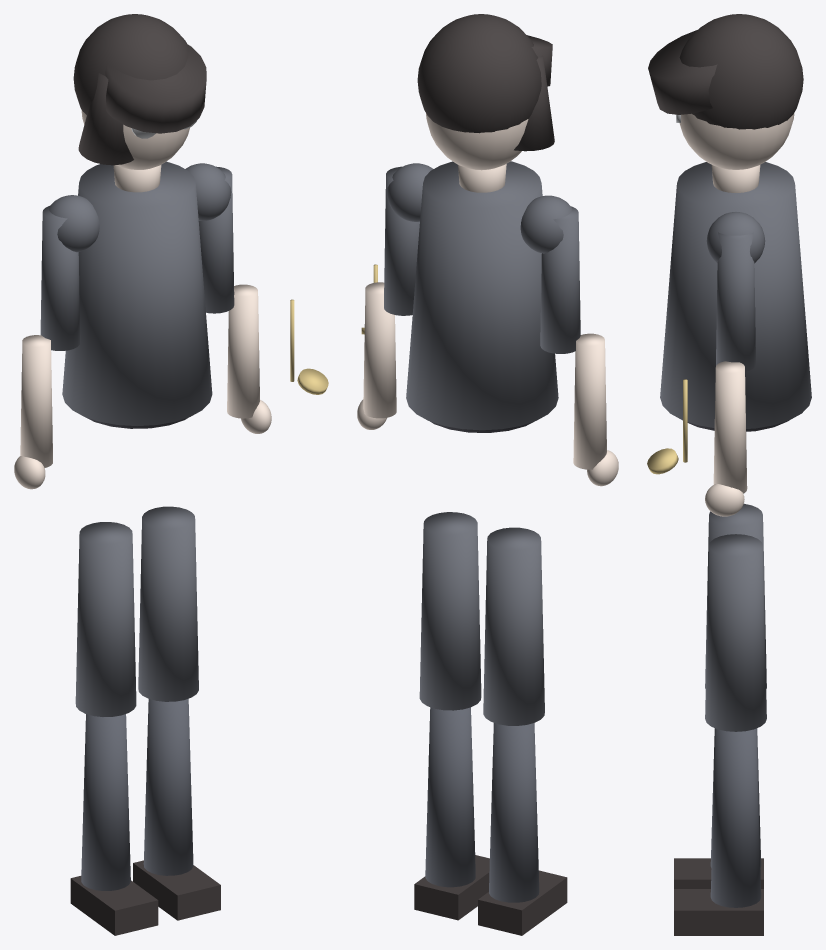
File: wen_heng.glb
3 renders of one model, left to right at view 1: azimuth 30°, elevation 25°; view 2: azimuth 150°, elevation 25°; view 3: azimuth 270°, elevation 25°, orthographic.
Parts seen in each view (by area): view 1: Torso, ThighR, ThighL, ShinL, ShinR, HairCap, FringeW, UpperArmL, ForeArmR, ForeArmL, FootL, UpperArmR (+7 smaller); view 2: Torso, HairCap, ThighL, ThighR, ShinR, ShinL, UpperArmL, ForeArmL, ForeArmR, UpperArmR, Head, FootL (+6 smaller); view 3: Torso, ThighR, HairCap, ShinR, UpperArmR, ForeArmR, Head, FringeW, FootR, ThighL, ShoulderR, FootL (+5 smaller).
Part boxes in pixels (x1,y1,x2,y2): Torso: (62,161,212,425); ThighR: (138,506,198,701); ThighL: (75,522,136,716); ShinL: (81,714,130,890); ShinR: (143,698,193,875); HairCap: (73,14,188,114); FringeW: (105,43,206,133); UpperArmL: (40,206,80,350); ForeArmR: (227,284,259,418); ForeArmL: (20,335,52,467); FootL: (70,876,158,935); UpperArmR: (198,166,234,313); Torso: (406,161,558,430); HairCap: (417,14,541,133); ThighL: (483,527,544,725); ThighR: (419,512,481,710); ShinR: (425,707,475,887); ShinL: (489,723,539,902); UpperArmL: (540,206,580,353); ForeArmL: (573,333,606,469); ForeArmR: (363,282,396,418); UpperArmR: (384,166,419,315); Head: (426,113,528,170); FootL: (478,870,567,935); Torso: (660,162,811,428); ThighR: (705,534,766,731); HairCap: (679,14,803,129); ShinR: (710,729,761,907); UpperArmR: (716,232,755,371); ForeArmR: (713,361,747,493); Head: (679,113,794,169); FringeW: (648,30,717,114); FootR: (674,889,763,935); ThighL: (705,503,766,688); ShoulderR: (706,212,765,263); FootL: (674,858,763,888).
Bounding box in the file's own units: 0.5791 × 1.75 × 0.2931.
